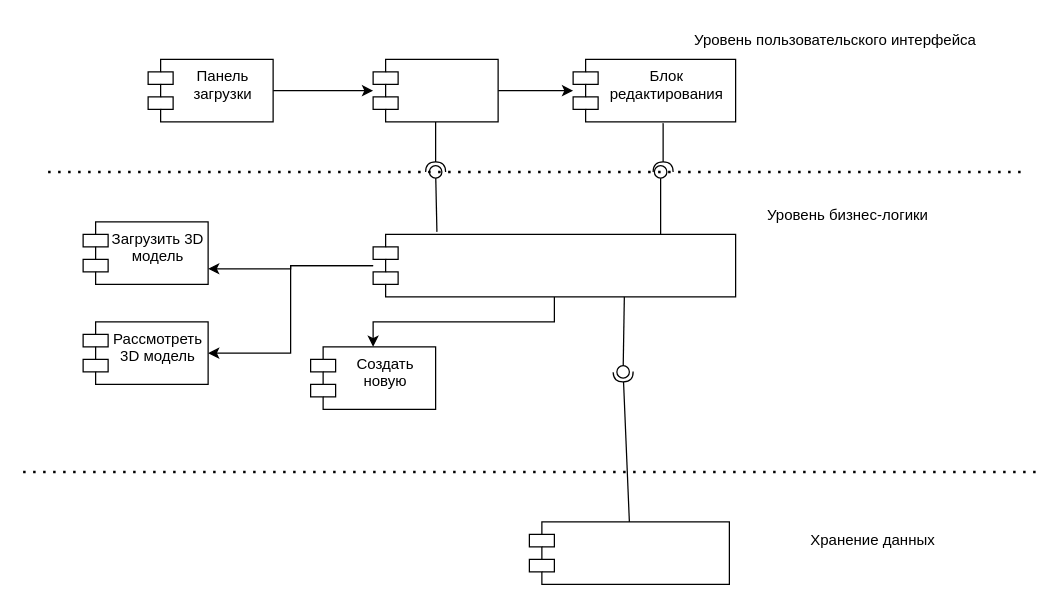
Image size: 1059x606. Some labels were removed from this diagram. The shapes that lost their labels are listed below. From the top down, each one's centre as x and y in pixels, then its label:
pixel 435 90: Блок просмотра
pixel 554 265: Контроллер
pixel 628 552: Файловая система компьютера
